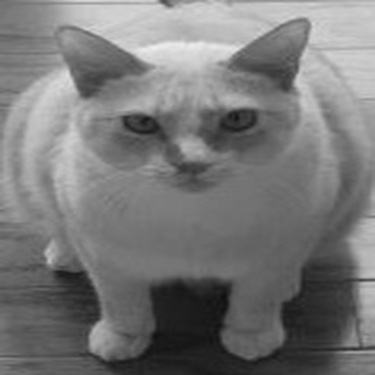cat: (16, 22, 351, 368)
